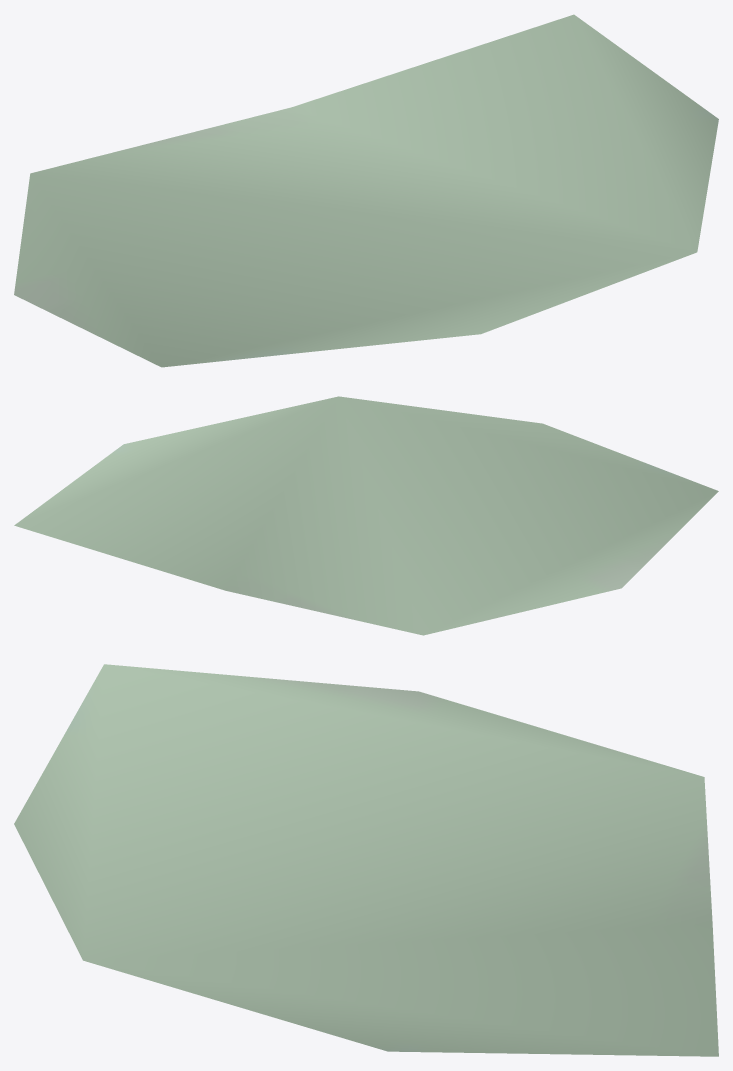
Rendered from TROLLHOLE02_HOLECAP130.fbx.
3 renders of one model, top to bottom at view 1: azimuth 30°, elevation 25°; view 2: azimuth 150°, elevation 25°; view 3: azimuth 270°, elevation 25°, orthographic. The views are drawn at different scales.
Parts seen in each view (by area): view 1: TROLLHOLE02_HOLECAP130; view 2: TROLLHOLE02_HOLECAP130; view 3: TROLLHOLE02_HOLECAP130.
Part boxes in pixels (<box>): TROLLHOLE02_HOLECAP130: <box>14,14,718,367</box>; TROLLHOLE02_HOLECAP130: <box>14,396,718,635</box>; TROLLHOLE02_HOLECAP130: <box>14,664,718,1056</box>.
Size of the model in its own units: 30584 by 1491 by 23926.
1 material, 1 textured.
